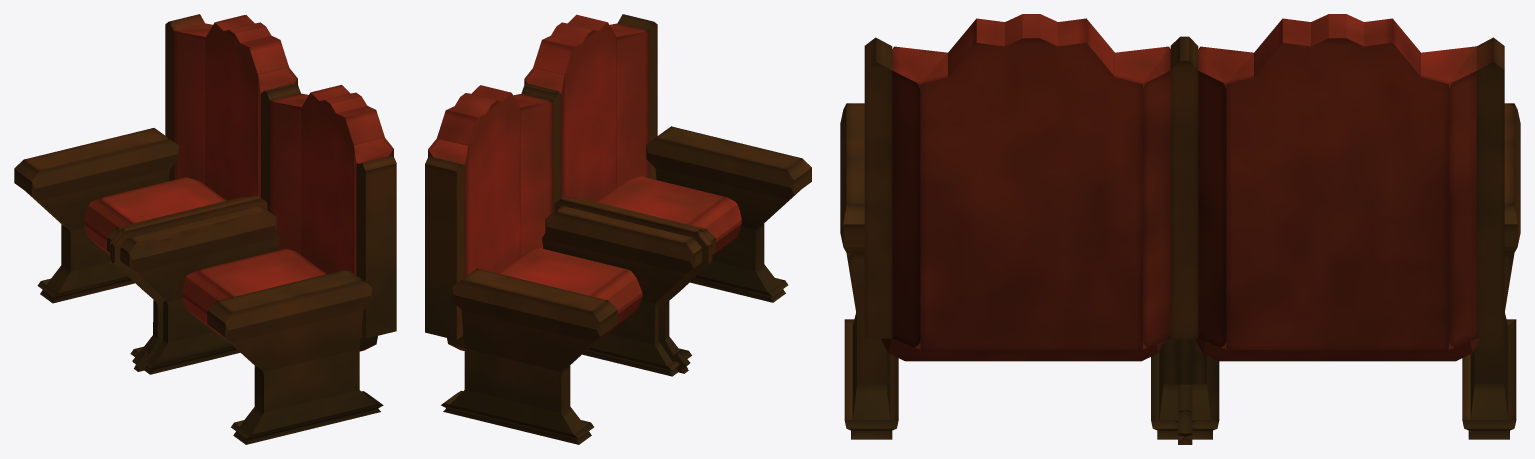
File: CadeiraTeatro.fbx
3 views of the same model, side by side, from view 1: azimuth 30°, elevation 25°; view 2: azimuth 150°, elevation 25°; view 3: azimuth 270°, elevation 25° (orthographic). The views are drawn at different scales.
Visible parts, largest first — view 1: Cube.161; view 2: Cube.161; view 3: Cube.161.
Boxes of the visible parts, x1,y1,x2,y2 form: Cube.161: (14, 14, 396, 444); Cube.161: (425, 14, 811, 444); Cube.161: (840, 14, 1520, 444).
Bounding box in the file's own units: 132 × 170 × 244.
Materials: 1 (1 with a texture image).
